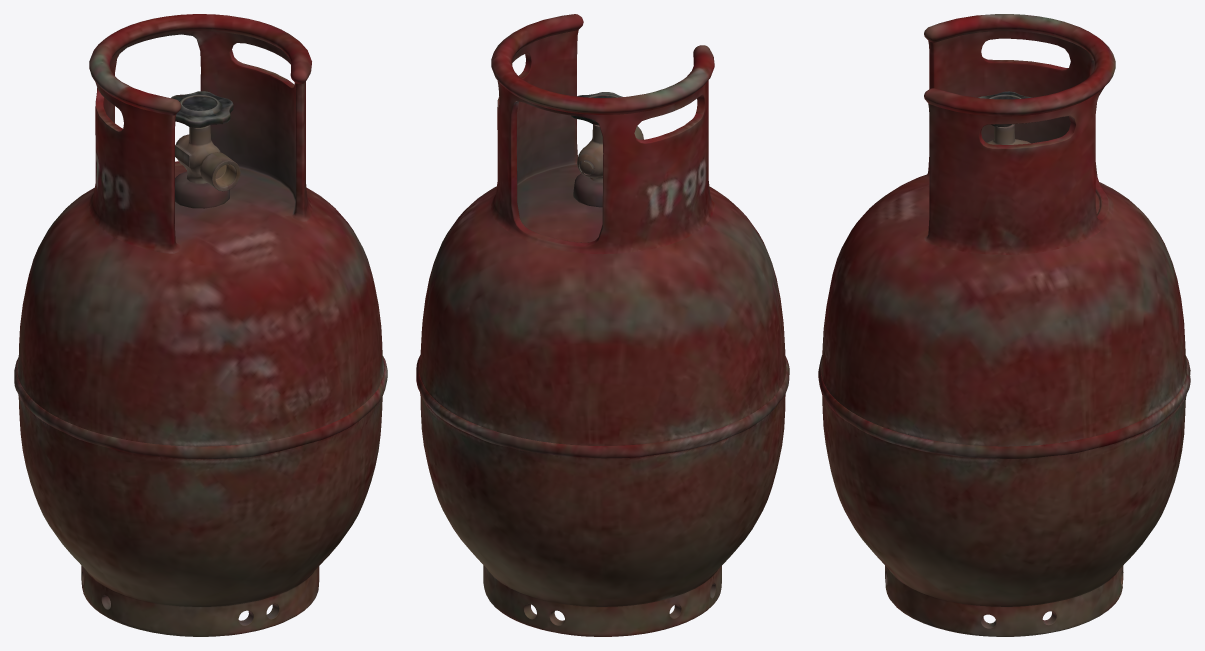
The model's file is small_lpg_tank.glb.
The picture shows the model from 3 angles, left to right: view 1: azimuth 30°, elevation 25°; view 2: azimuth 150°, elevation 25°; view 3: azimuth 270°, elevation 25°; orthographic projection.
Parts seen in each view (by area): view 1: small_lpg_tank; view 2: small_lpg_tank; view 3: small_lpg_tank.
Boxes of the visible parts, x1,y1,x2,y2 form: small_lpg_tank: (14, 14, 387, 636); small_lpg_tank: (416, 14, 789, 636); small_lpg_tank: (818, 14, 1190, 636).
Bounding box in the file's own units: 0.41 × 0.642 × 0.4092.
Materials: 1 (1 with a texture image).
